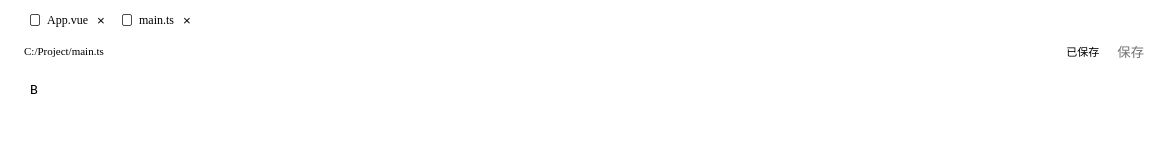
FileEditorPane › switches active editor tab
The width and height of the screenshot is (1176, 160).
Click the tab with aria-label "切换到 App.vue" at (56, 20), box [20,4,92,36]
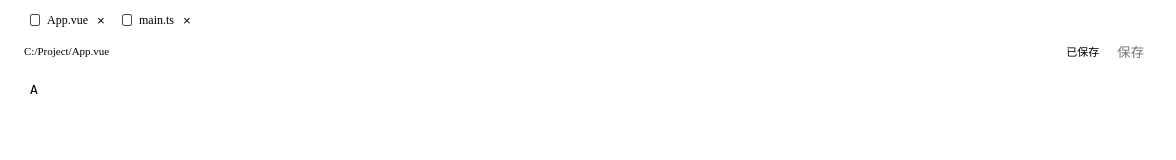
Check: the text "C:/Project/App.vue" is shown, box [24,45,109,57]
Check: the text box holds "A", box [12,66,1164,136]
